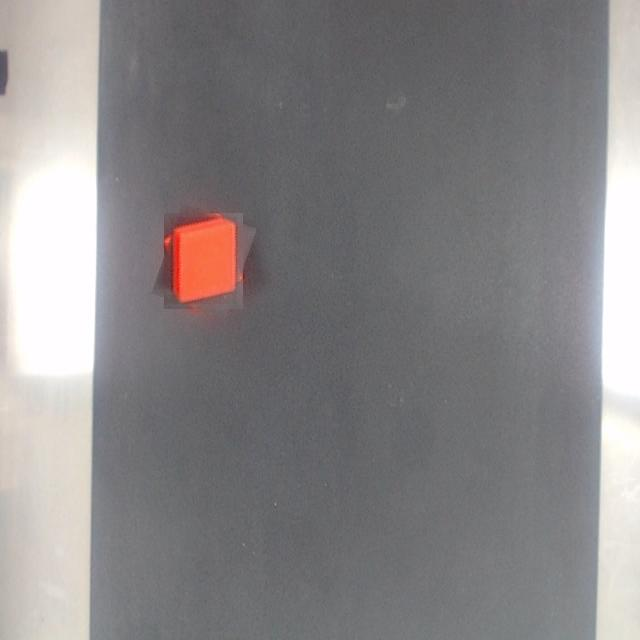Rojo: (171, 217, 237, 304)
